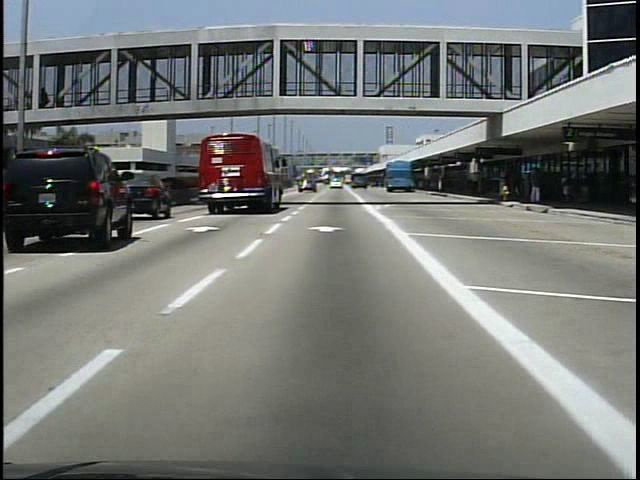person: (558, 168, 576, 207), (470, 172, 481, 194)
